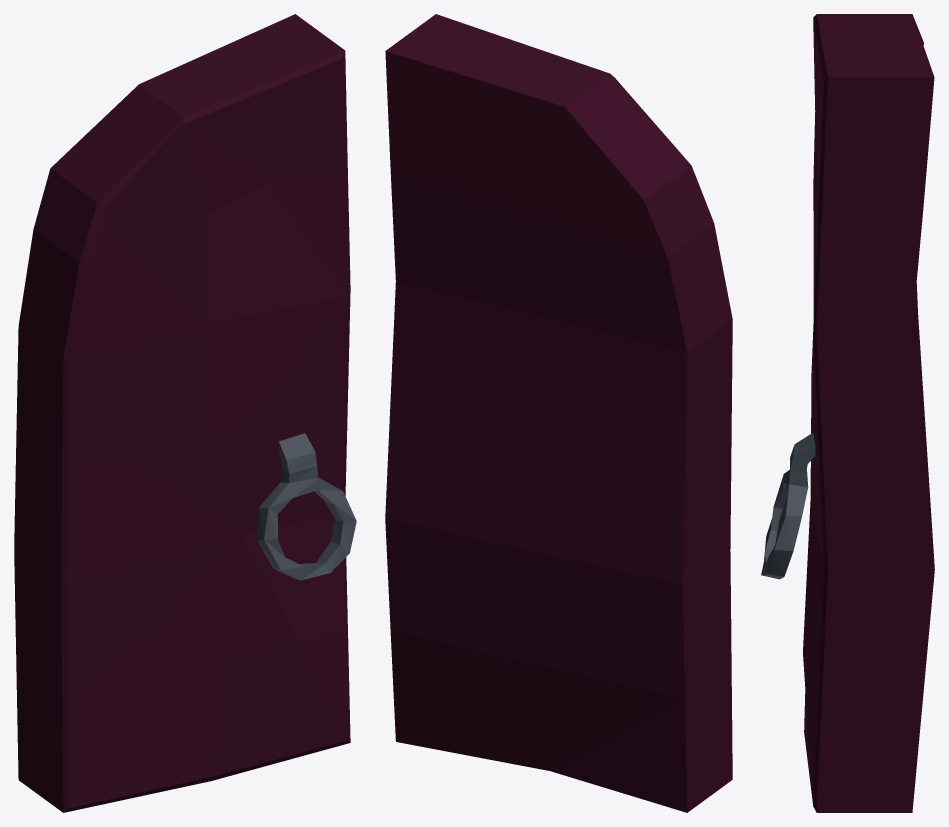
The model's file is castledoor.FBX.
3 views of the same model, side by side, from view 1: azimuth 30°, elevation 25°; view 2: azimuth 150°, elevation 25°; view 3: azimuth 270°, elevation 25° (orthographic). The views are drawn at different scales.
Visible parts, largest first — view 1: castle_door; view 2: castle_door; view 3: castle_door.
Boxes of the visible parts, x1,y1,x2,y2 form: castle_door: [14, 14, 356, 812]; castle_door: [385, 14, 732, 812]; castle_door: [761, 14, 934, 812].
Bounding box in the file's own units: 6.27 × 14.36 × 3.07.
